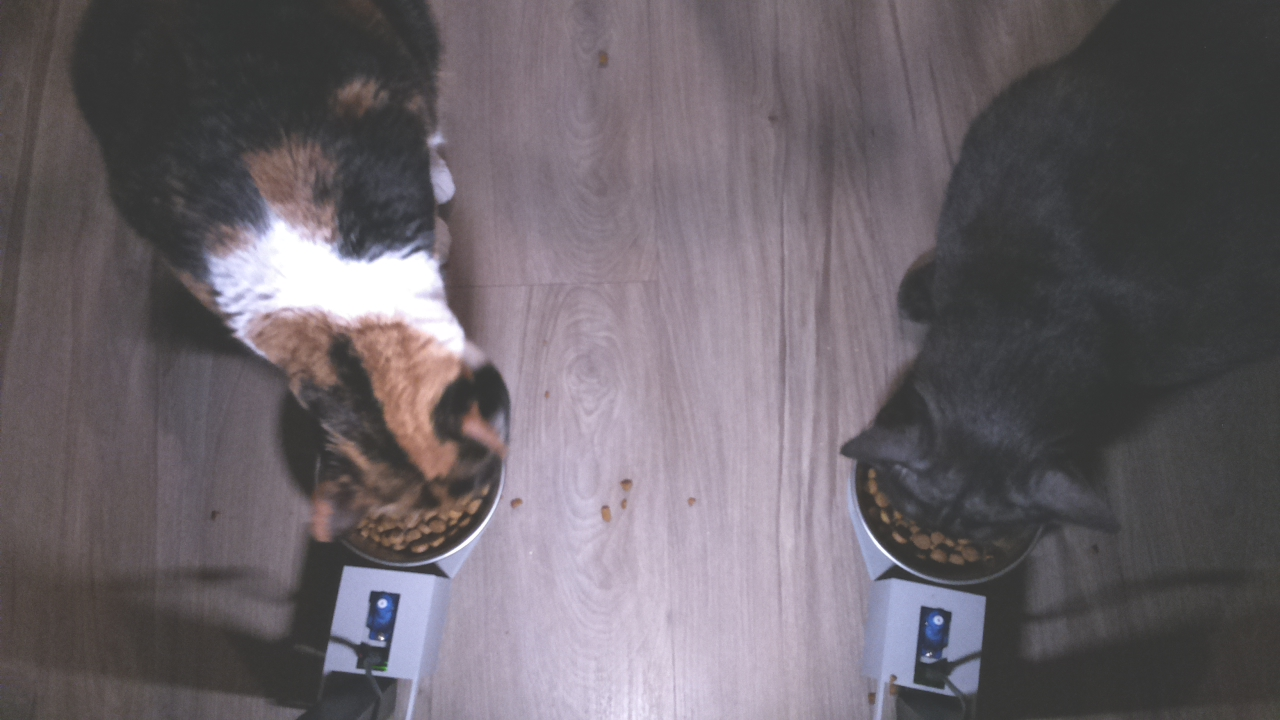bella_eating: (241, 227, 519, 568)
saki_eating: (825, 340, 1135, 585)
